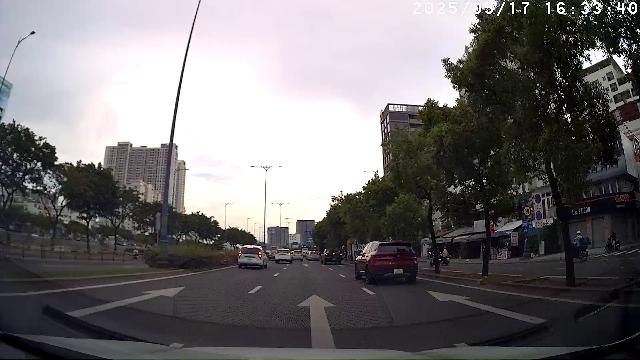127-toc-do-toi-da-50: (523, 205, 532, 217)
